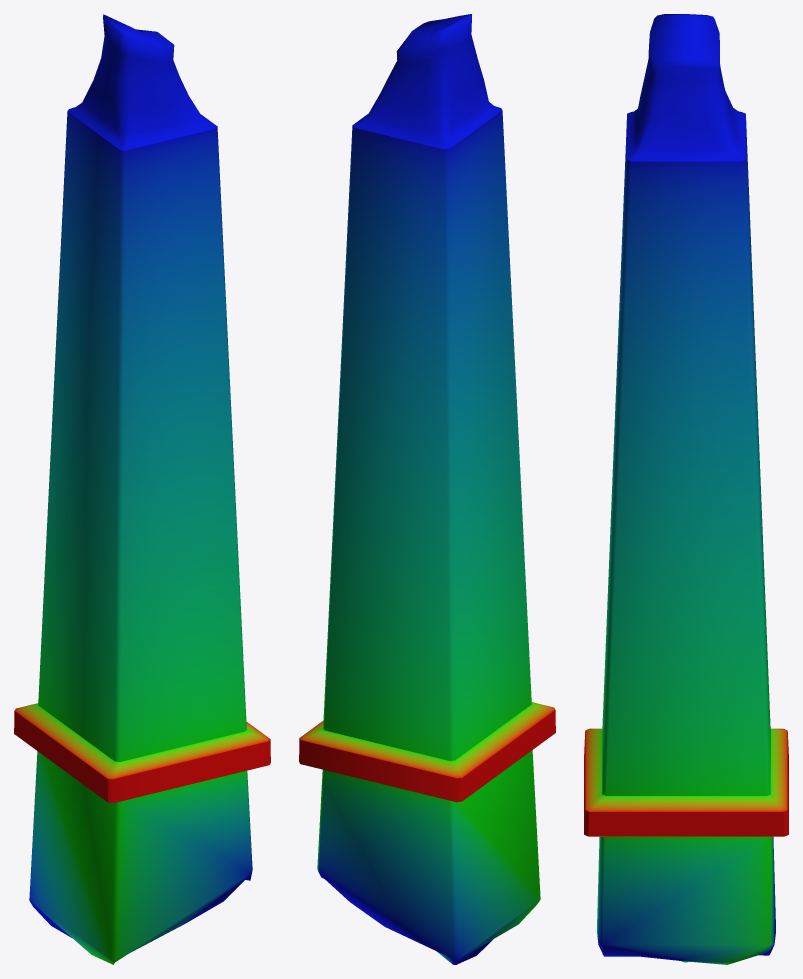
Rendered from AncientLoft_PillarBroken (3).fbx.
The picture shows the model from 3 angles, left to right: view 1: azimuth 30°, elevation 25°; view 2: azimuth 150°, elevation 25°; view 3: azimuth 270°, elevation 25°; orthographic projection. The views are drawn at different scales.
Visible parts, largest first — view 1: AncientLoft_PillarBrokenMesh; view 2: AncientLoft_PillarBrokenMesh; view 3: AncientLoft_PillarBrokenMesh.
Boxes of the visible parts, bbox=[...] form: AncientLoft_PillarBrokenMesh: bbox=[14, 14, 270, 964]; AncientLoft_PillarBrokenMesh: bbox=[299, 14, 555, 964]; AncientLoft_PillarBrokenMesh: bbox=[584, 14, 788, 964].
Size of the model in its own units: 6.85 by 36.55 by 7.12.
